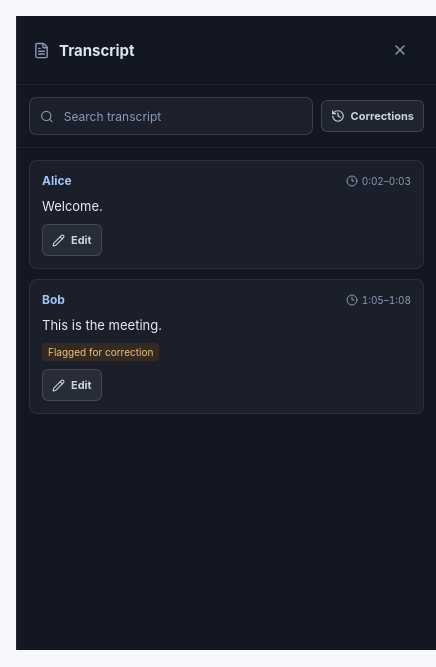
Test: TranscriptPanel › allows organizer to edit text and speaker, then saves text and speaker only
Expected: the text "Welcome." is shown, top-left (42, 196), bottom-right (103, 216)
Click the button with aria-label "Edit segment 1" at (72, 240), box top-left (42, 224), bottom-right (102, 256)
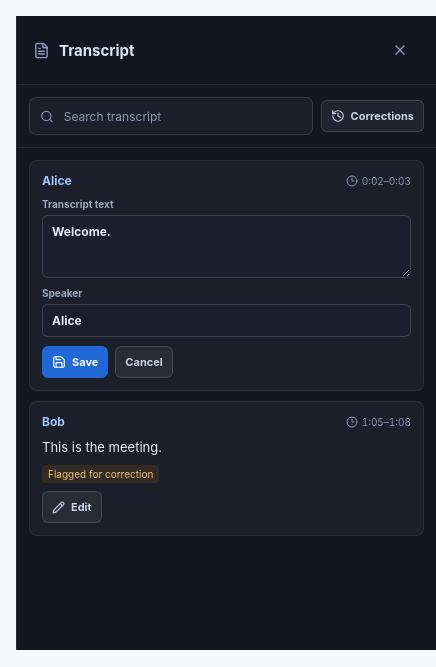
Replace the text in the text box named "Edit transcript text for segment 1" with "Welcome everyone." at (226, 246), box top-left (42, 215), bottom-right (411, 278)
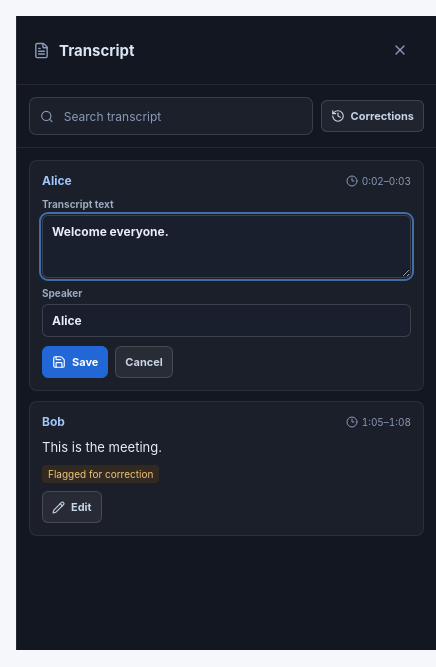
Replace the text in the field named "Edit speaker for segment 1" with "Alicia" at (226, 320), box top-left (42, 304), bottom-right (411, 337)
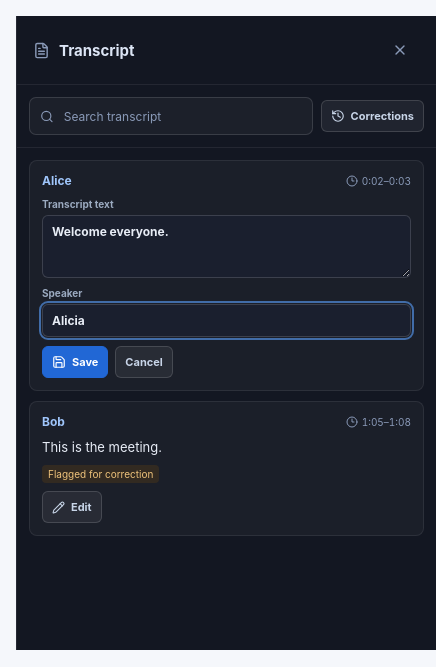
Click the button "Save" at (75, 362), box top-left (42, 346), bottom-right (108, 378)
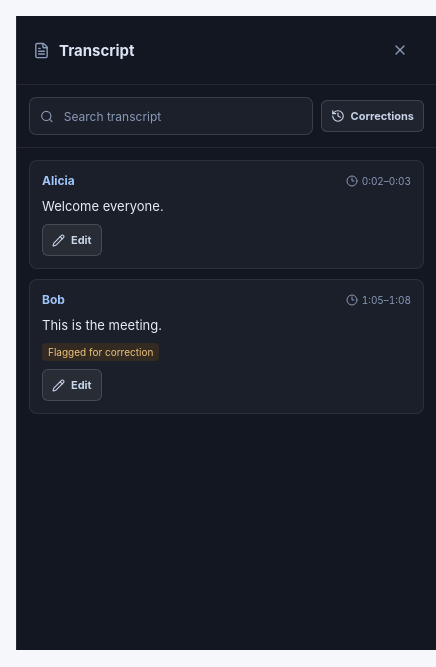
Expected: the text "Welcome everyone." is shown, top-left (42, 196), bottom-right (164, 216)
Expected: the text "Alicia" is shown, top-left (42, 173), bottom-right (75, 188)
